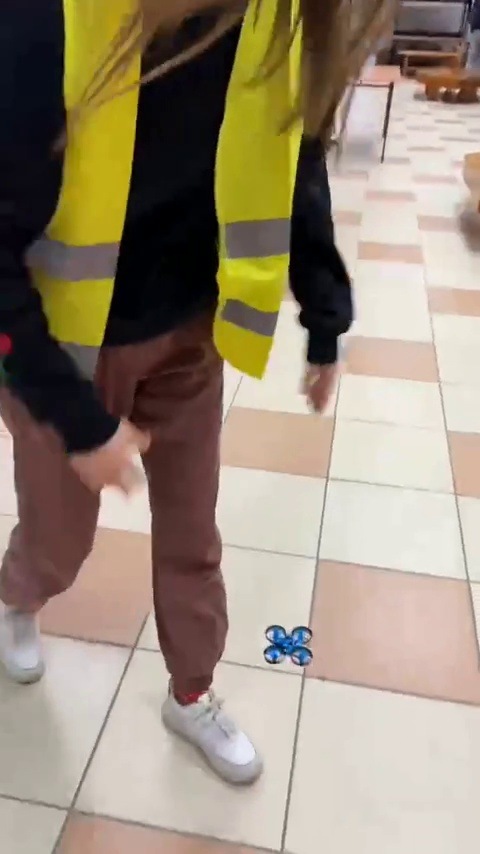drone: (264, 623, 316, 665)
vest: (0, 2, 355, 791)
